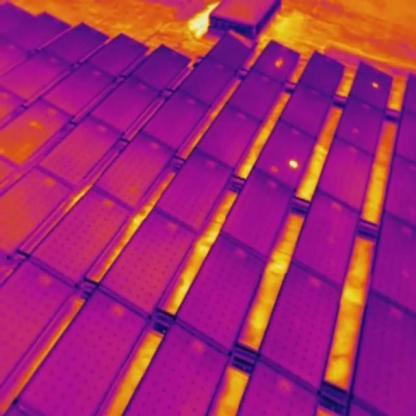anomaly: (286, 158, 301, 170), (369, 79, 381, 91), (272, 56, 283, 69)
